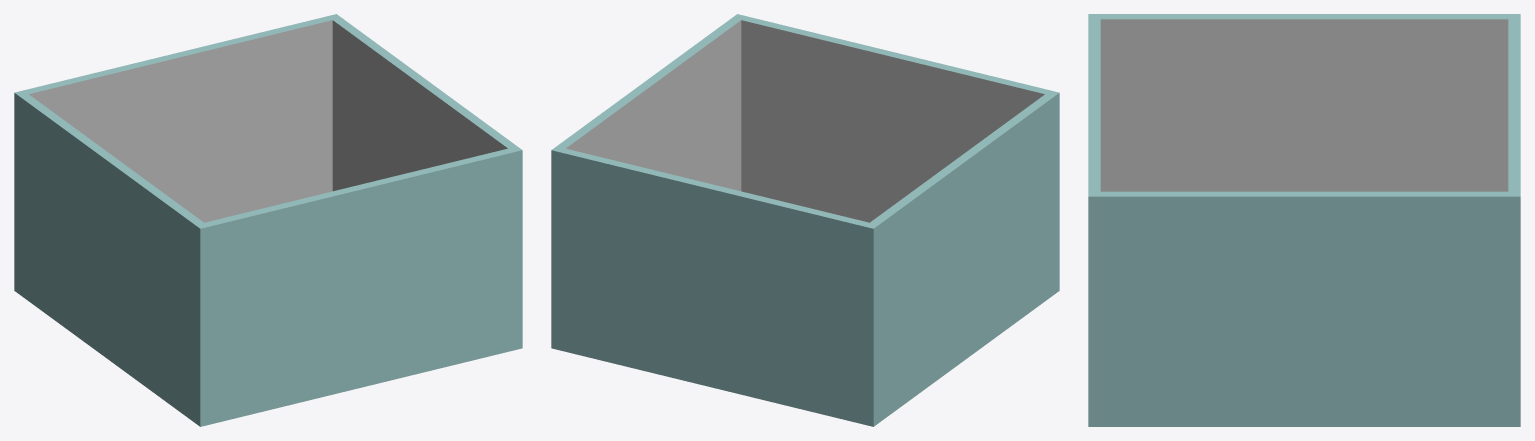
File: MirrorRoom.fbx
3 views of the same model, side by side, from view 1: azimuth 30°, elevation 25°; view 2: azimuth 150°, elevation 25°; view 3: azimuth 270°, elevation 25° (orthographic). The views are drawn at different scales.
Parts seen in each view (by area): view 1: Boole_1; view 2: Boole_1; view 3: Boole_1.
Part boxes in pixels (left/top/right/bottom): Boole_1: left=14, top=14, right=522, bottom=426; Boole_1: left=551, top=14, right=1059, bottom=426; Boole_1: left=1088, top=14, right=1520, bottom=426.
Bounding box in the file's own units: 141 × 82.6 × 141.
